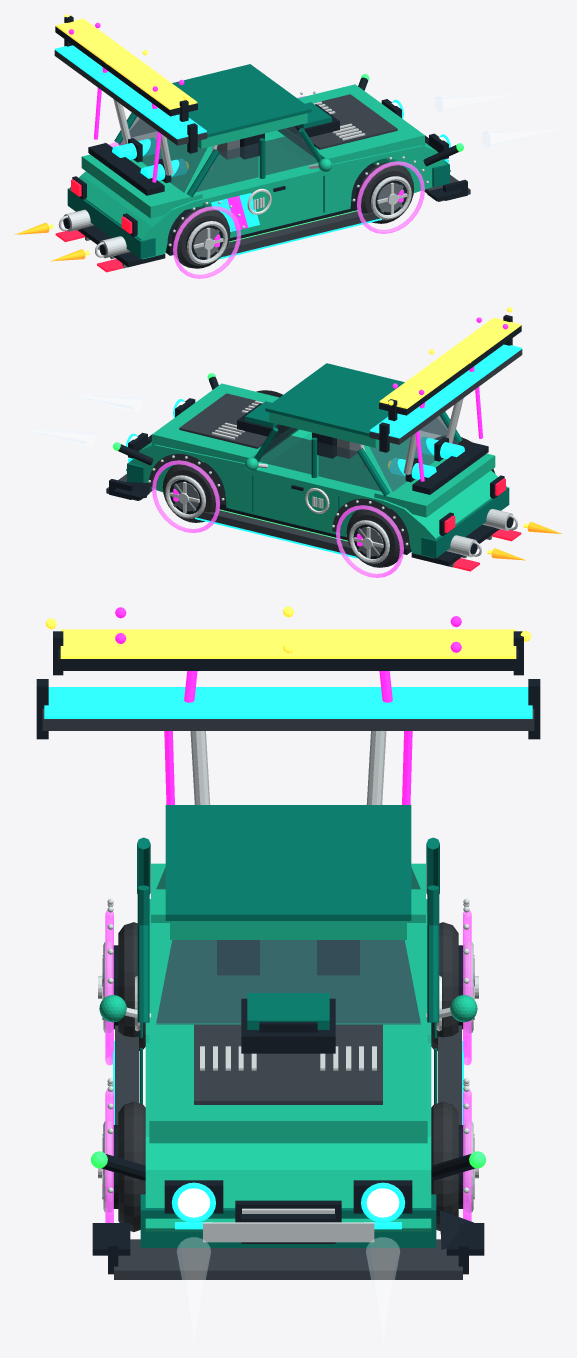
File: kaze-ae-max-tier-modular.glb
3 views of the same model, one above another, from view 1: azimuth 30°, elevation 25°; view 2: azimuth 150°, elevation 25°; view 3: azimuth 270°, elevation 25° (orthographic). The views are drawn at different scales.
Parts seen in each view (by area): view 1: BASE_Main_Emerald_Hatch_Shell, BASE_Roof_Visor_Trim, BASE_Hood_Panel, KIT_T5_ONI_KAIJU__Upper_Wing_Gold_Edge, BASE_Rear_Hatch_Deck, KIT_T3_TIME_ATTACK__GT_Wing_Cyan_Edge, KIT_T3_TIME_ATTACK__Carbon_Bonnet, KIT_T1_STREET__Side_Skirt_1, BASE_Glass_Side_Rear_1, BASE_Glass_Rear_Hatch, BASE_Glass_Side_Front_1, BASE_Rear_Bumper_Shell (+28 smaller); view 2: BASE_Main_Emerald_Hatch_Shell, BASE_Roof_Visor_Trim, BASE_Hood_Panel, KIT_T5_ONI_KAIJU__Upper_Wing_Gold_Edge, BASE_Rear_Hatch_Deck, KIT_T3_TIME_ATTACK__GT_Wing_Cyan_Edge, KIT_T3_TIME_ATTACK__Carbon_Bonnet, KIT_T1_STREET__Side_Skirt_-1, BASE_Glass_Side_Rear_-1, BASE_Glass_Rear_Hatch, BASE_Glass_Side_Front_-1, BASE_Rear_Bumper_Shell (+26 smaller); view 3: BASE_Main_Emerald_Hatch_Shell, BASE_Roof_Visor_Trim, BASE_Glass_Front_Windshield_1, BASE_Hood_Panel, BASE_Glass_Windshield, KIT_T3_TIME_ATTACK__GT_Wing_Cyan_Edge, KIT_T5_ONI_KAIJU__Upper_Wing_Gold_Edge, KIT_T3_TIME_ATTACK__Carbon_Bonnet, KIT_T1_STREET__Front_Splitter, KIT_T3_TIME_ATTACK__SwanNeck_GT_Wing_Blade, KIT_T5_ONI_KAIJU__DoubleDeck_Upper_Wing, BASE_Roof_Panel (+29 smaller).
Boxes of the visible parts, x1,y1,x2,y2 form: BASE_Main_Emerald_Hatch_Shell: (70, 130, 450, 259); BASE_Roof_Visor_Trim: (172, 64, 311, 137); BASE_Hood_Panel: (277, 84, 424, 163); KIT_T5_ONI_KAIJU__Upper_Wing_Gold_Edge: (56, 18, 197, 109); BASE_Rear_Hatch_Deck: (81, 154, 202, 218); KIT_T3_TIME_ATTACK__GT_Wing_Cyan_Edge: (55, 45, 206, 139); KIT_T3_TIME_ATTACK__Carbon_Bonnet: (309, 94, 397, 149); KIT_T1_STREET__Side_Skirt_1: (218, 211, 379, 258); BASE_Glass_Side_Rear_1: (196, 143, 258, 192); BASE_Glass_Rear_Hatch: (118, 118, 207, 192); BASE_Glass_Side_Front_1: (265, 133, 317, 175); BASE_Rear_Bumper_Shell: (67, 188, 155, 258); BASE_Main_Emerald_Hatch_Shell: (126, 429, 506, 558); BASE_Roof_Visor_Trim: (265, 363, 404, 436); BASE_Hood_Panel: (152, 383, 299, 463); KIT_T5_ONI_KAIJU__Upper_Wing_Gold_Edge: (379, 317, 520, 408); BASE_Rear_Hatch_Deck: (374, 453, 495, 517); KIT_T3_TIME_ATTACK__GT_Wing_Cyan_Edge: (370, 344, 521, 438); KIT_T3_TIME_ATTACK__Carbon_Bonnet: (179, 393, 267, 448); KIT_T1_STREET__Side_Skirt_-1: (196, 510, 358, 557); BASE_Glass_Side_Rear_-1: (318, 442, 380, 491); BASE_Glass_Rear_Hatch: (370, 418, 458, 491); BASE_Glass_Side_Front_-1: (259, 432, 311, 474); BASE_Rear_Bumper_Shell: (421, 487, 509, 558); BASE_Main_Emerald_Hatch_Shell: (145, 899, 431, 1231); BASE_Roof_Visor_Trim: (165, 805, 411, 920); BASE_Glass_Front_Windshield_1: (156, 940, 420, 1024); BASE_Hood_Panel: (149, 1025, 427, 1143); BASE_Glass_Windshield: (156, 940, 420, 1022); KIT_T3_TIME_ATTACK__GT_Wing_Cyan_Edge: (44, 687, 532, 718); KIT_T5_ONI_KAIJU__Upper_Wing_Gold_Edge: (60, 629, 516, 658); KIT_T3_TIME_ATTACK__Carbon_Bonnet: (194, 1024, 382, 1104); KIT_T1_STREET__Front_Splitter: (114, 1239, 462, 1279); KIT_T3_TIME_ATTACK__SwanNeck_GT_Wing_Blade: (42, 708, 534, 730); KIT_T5_ONI_KAIJU__DoubleDeck_Upper_Wing: (58, 649, 518, 670); BASE_Roof_Panel: (170, 921, 406, 939).
Size of the model in its own units: 6.82 by 2.6 by 2.93.
